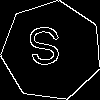S: (26, 26, 64, 75)
